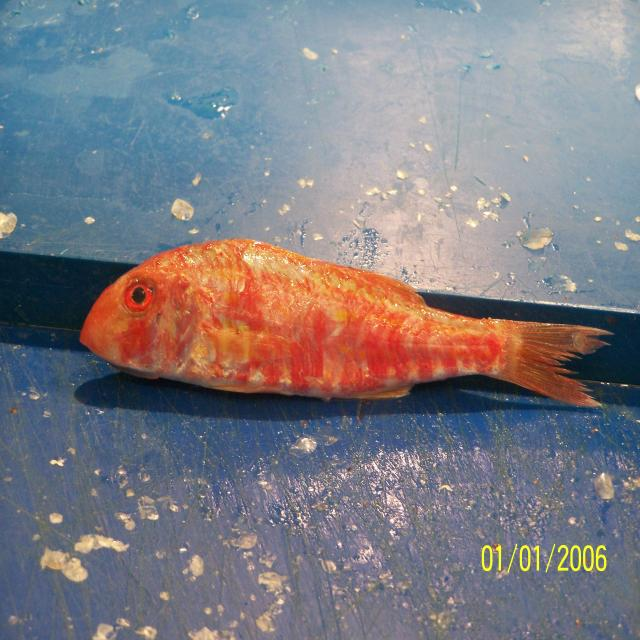Red-Mullet-kefal-: (78, 239, 610, 409)
